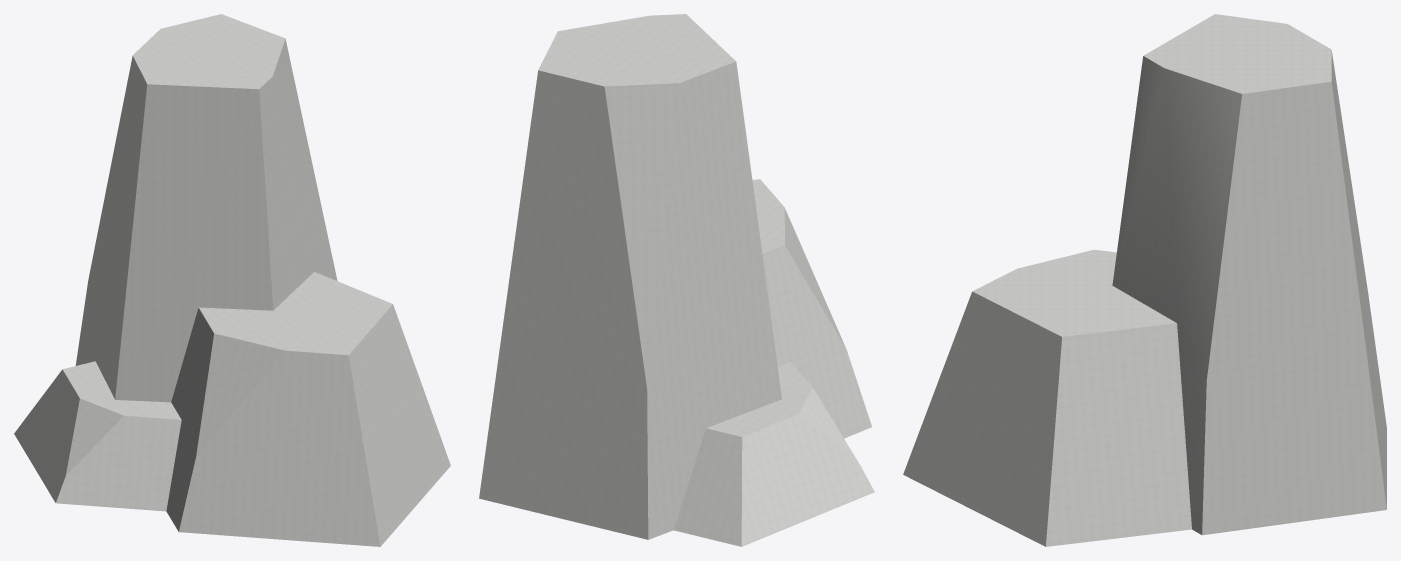
File: Rock0.obj
3 views of the same model, side by side, from view 1: azimuth 30°, elevation 25°; view 2: azimuth 150°, elevation 25°; view 3: azimuth 270°, elevation 25° (orthographic). The views are drawn at different scales.
Parts seen in each view (by area): view 1: Rock0:rockSmall; view 2: Rock0:rockSmall; view 3: Rock0:rockSmall.
Boxes of the visible parts, x1,y1,x2,y2 form: Rock0:rockSmall: [14, 14, 450, 546]; Rock0:rockSmall: [479, 14, 874, 546]; Rock0:rockSmall: [903, 14, 1386, 546].
Size of the model in its own units: 0.9419 by 1.02 by 1.08.
